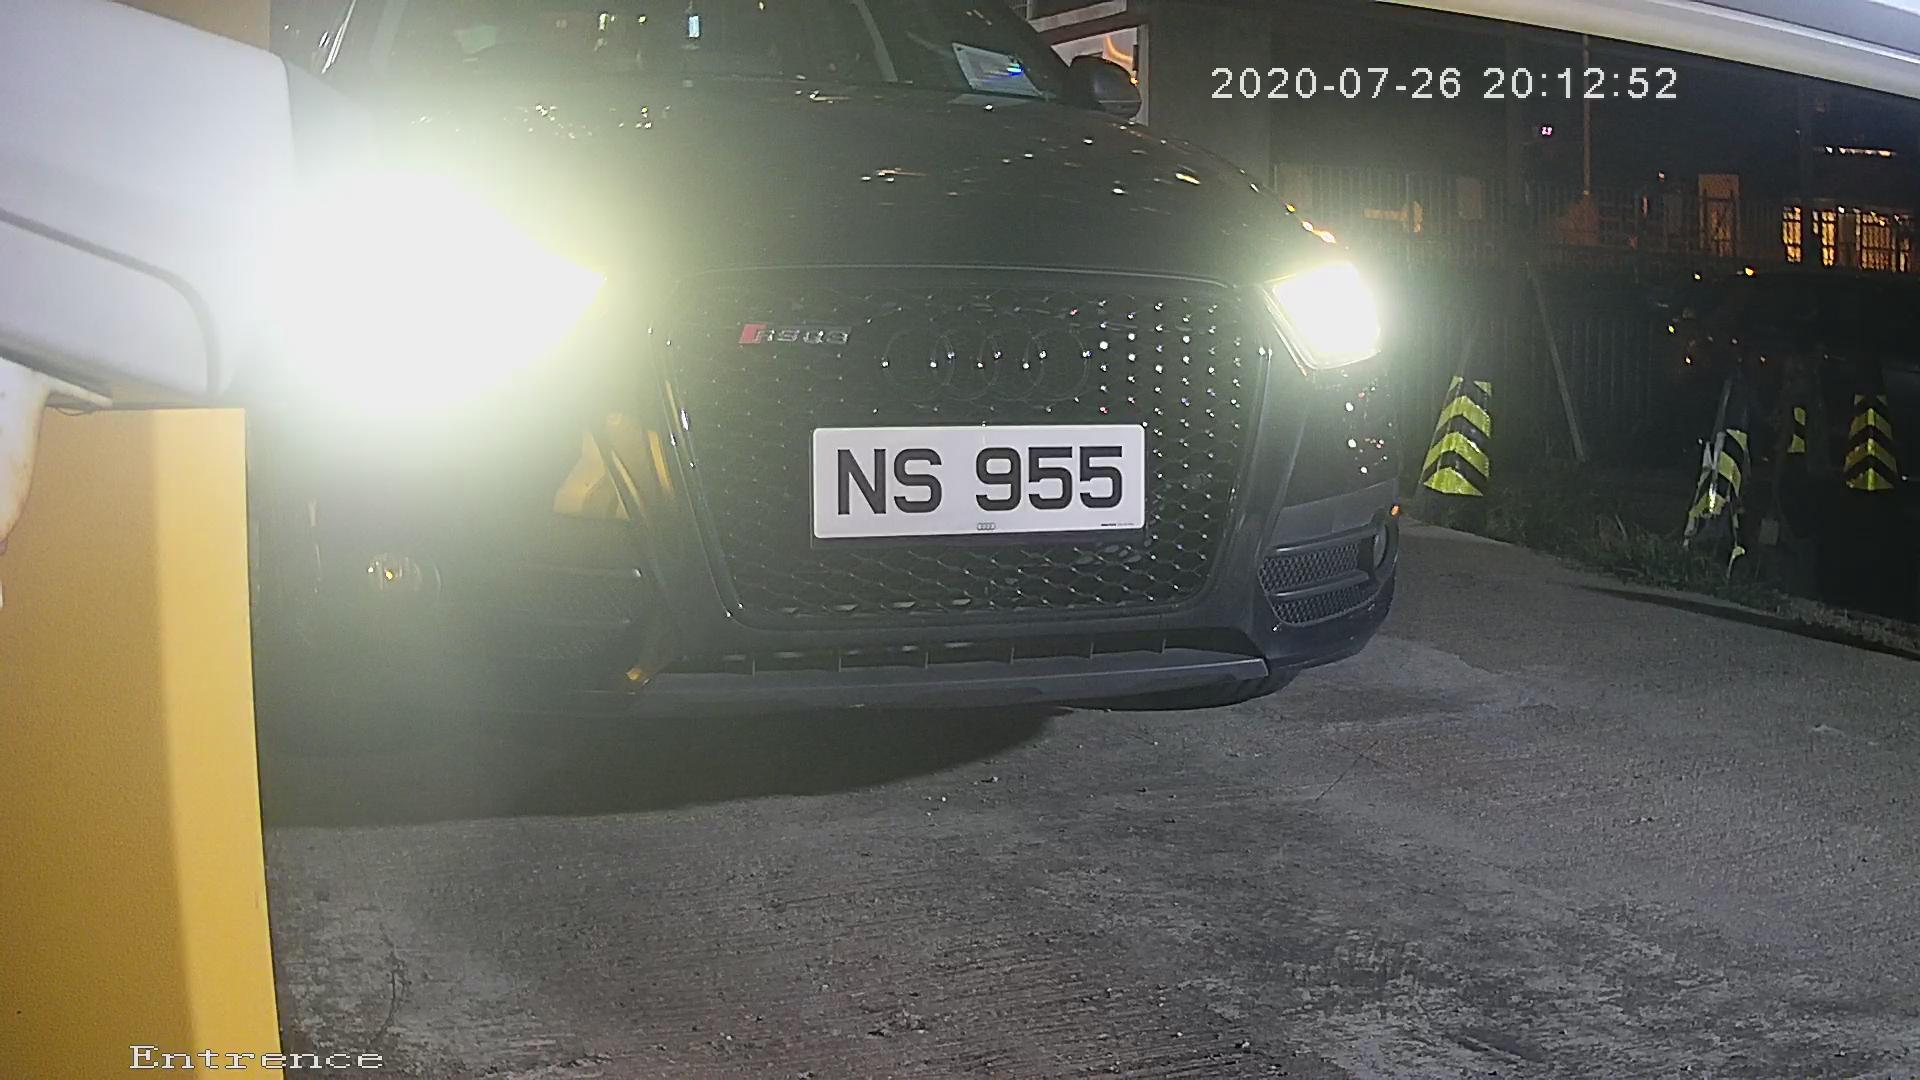Car: (52, 25, 1543, 835)
License Plate: (781, 401, 1166, 555)
